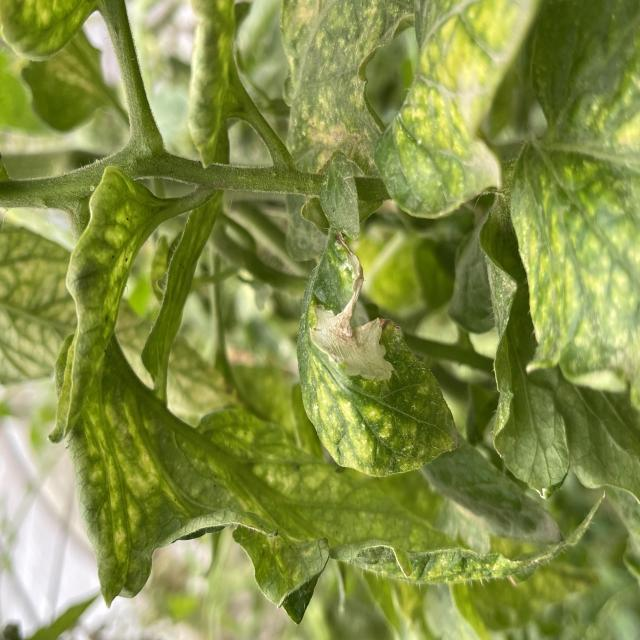Tuta absoluta: (278, 231, 406, 401)
